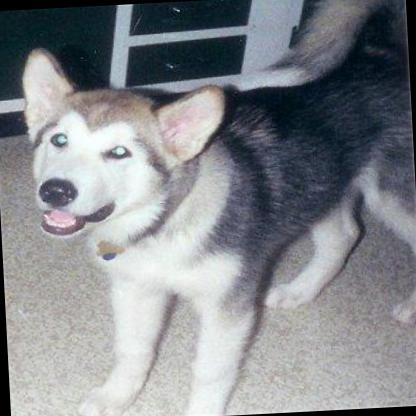malamute: (13, 0, 416, 416)
